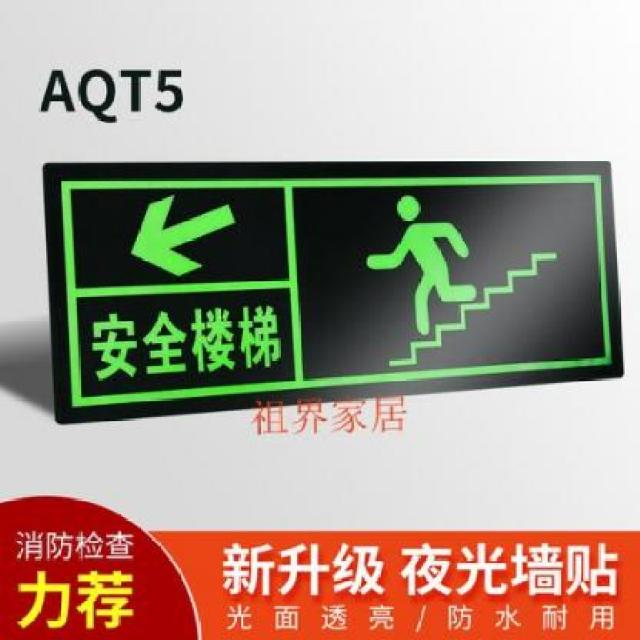exit_sign: (36, 142, 630, 423)
